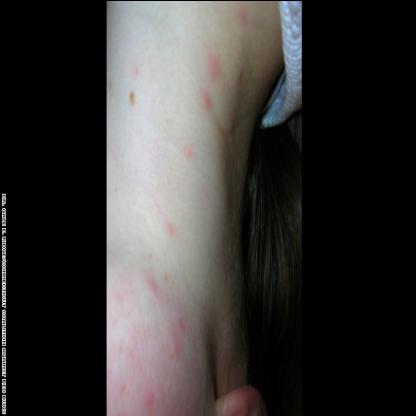Bed Bug: (169, 310, 189, 374), (140, 268, 166, 310), (136, 381, 164, 415), (199, 52, 223, 84), (191, 89, 216, 117), (156, 219, 181, 245), (230, 7, 250, 30), (221, 118, 245, 137), (126, 62, 142, 83), (182, 146, 196, 166)
